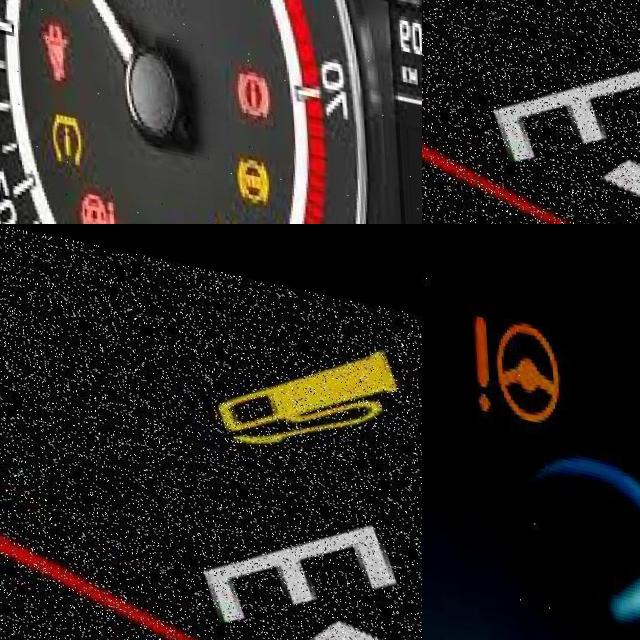Electronic Power Steering Warning: (464, 304, 564, 423), (46, 103, 81, 163), (75, 180, 119, 224)
Seat Belt: (39, 13, 67, 78)
